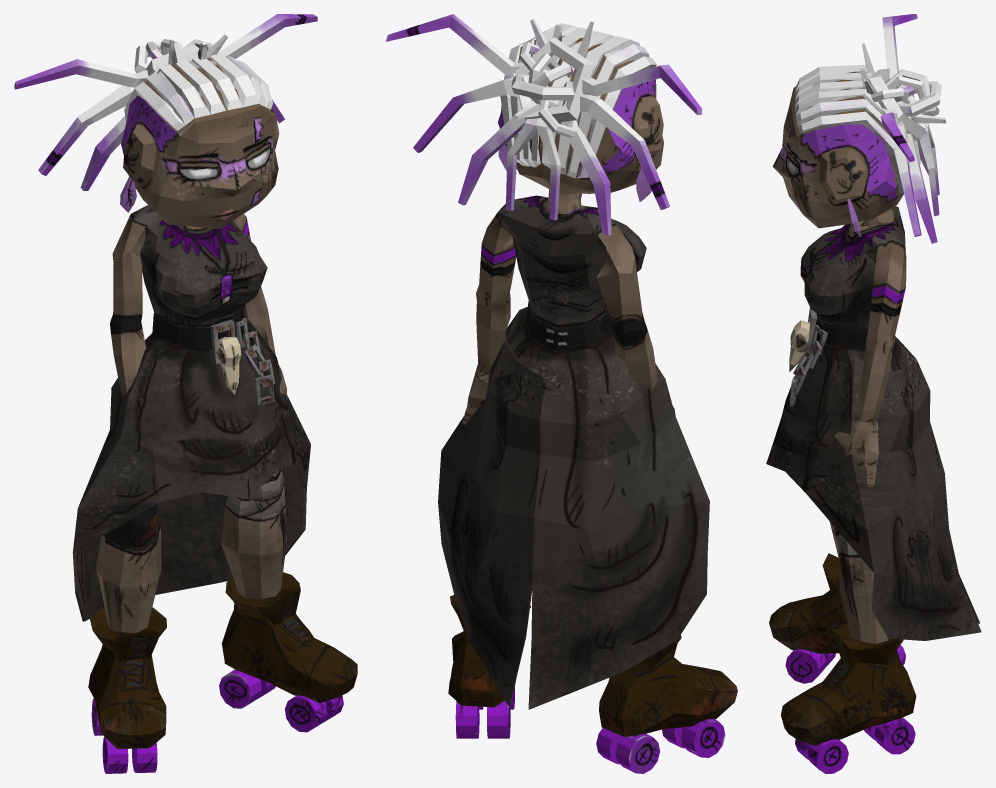
Rendered from bruja_000050.obj.
3 views of the same model, side by side, from view 1: azimuth 30°, elevation 25°; view 2: azimuth 150°, elevation 25°; view 3: azimuth 270°, elevation 25° (orthographic). The views are drawn at different scales.
Visible parts, largest first — view 1: Bruja_Plane.001; view 2: Bruja_Plane.001; view 3: Bruja_Plane.001.
Part boxes in pixels (x1,y1,x2,y2): Bruja_Plane.001: (14,14,357,773); Bruja_Plane.001: (386,14,737,773); Bruja_Plane.001: (766,14,981,773).
Size of the model in its own units: 7.48 by 16.58 by 4.87.
